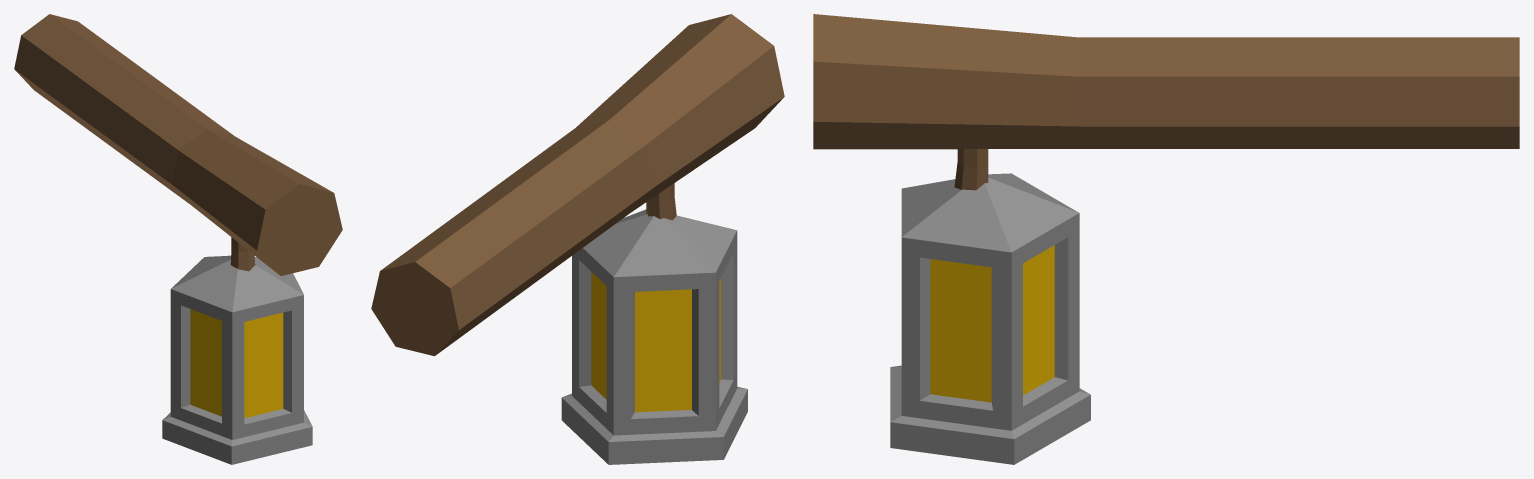
The model's file is House_Lantern_002.fbx.
3 renders of one model, left to right at view 1: azimuth 30°, elevation 25°; view 2: azimuth 150°, elevation 25°; view 3: azimuth 270°, elevation 25°, orthographic. The views are drawn at different scales.
Visible parts, largest first — view 1: House_Lantern.002; view 2: House_Lantern.002; view 3: House_Lantern.002.
Part boxes in pixels (x1,y1,x2,y2): House_Lantern.002: (14, 14, 342, 464); House_Lantern.002: (371, 14, 784, 464); House_Lantern.002: (813, 14, 1519, 464).
Size of the model in its own units: 29.31 by 62.32 by 98.1.
